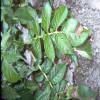Potato leaf late blight: (61, 19, 91, 48), (66, 82, 99, 100)
